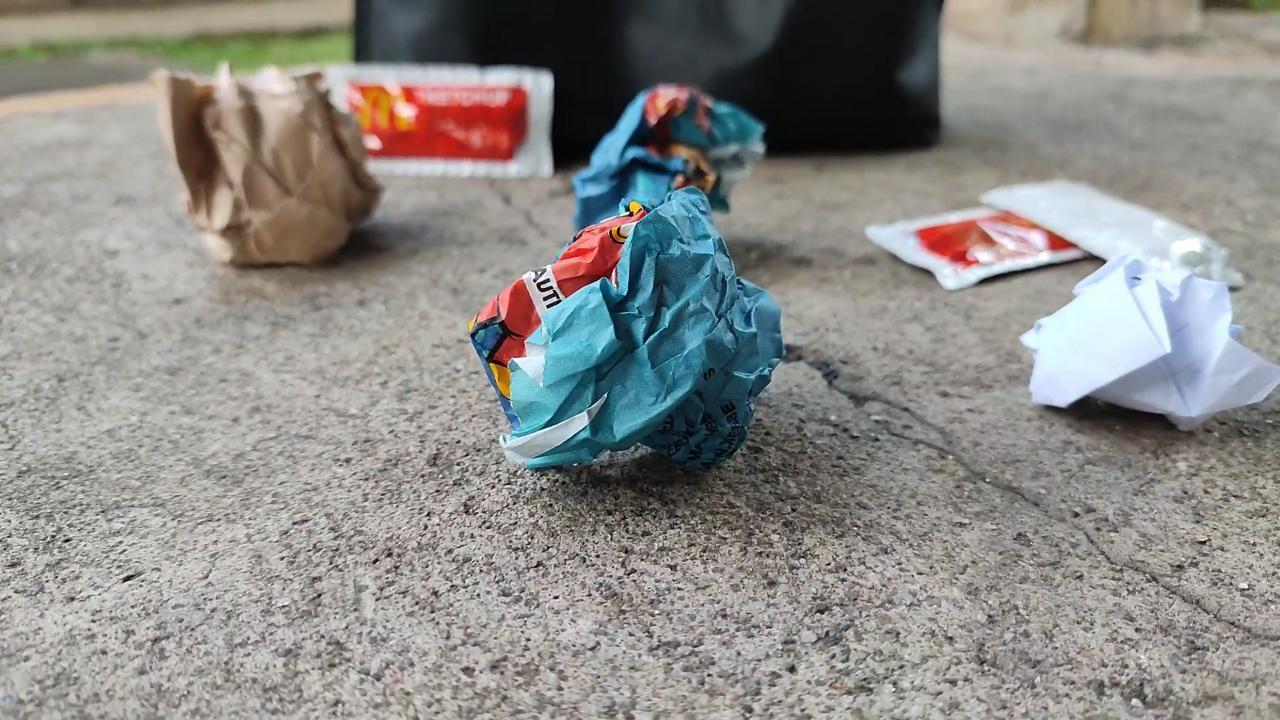Paper: (456, 207, 796, 491), (114, 57, 381, 268), (1027, 264, 1280, 452), (571, 84, 797, 268)
